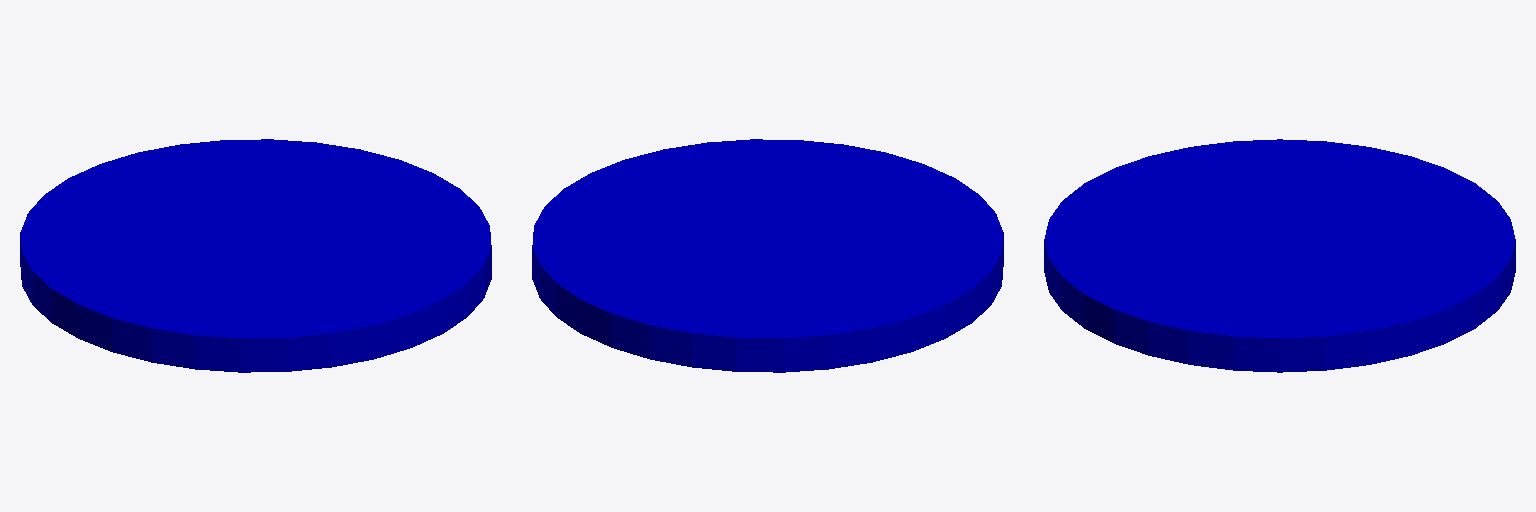
The robot description file, URDF, robot "x6":
<?xml version="1.0" ?>
<!-- =================================================================================== -->
<!-- |    This document was autogenerated by xacro from x6.urdf.xacro                  | -->
<!-- |    EDITING THIS FILE BY HAND IS NOT RECOMMENDED                                 | -->
<!-- =================================================================================== -->
<robot name="x6" xmlns:xacro="http://www.ros.org/wiki/xacro">
  <!-- Included URDF Files -->
  <link name="base">
    <inertial>
      <mass value="10"/>
      <origin rpy="0 0 0" xyz="0.0 0.0 0.0"/>
      <inertia ixx="0.001" ixy="0.0" ixz="0.0" iyy="0.001" iyz="0.0" izz="0.001"/>
    </inertial>
  </link>
  <!-- Used for fixing robot to Gazebo 'base_link' -->
  <link name="world"/>
  <joint name="fixed" type="fixed">
    <parent link="world"/>
    <child link="base"/>
  </joint>
  <link name="x6_base_link">
    <visual>
      <geometry>
        <!-- <mesh filename="package://x6_description/meshes/x6_common/x6_link_0_gnd.dae"/> -->
        <cylinder length="0.008" radius="0.05"/>
      </geometry>
      <origin rpy="0 0 0" xyz="0 0 0.004"/>
      <material name="blue">
        <color rgba="0 0 .8 1"/>
      </material>
    </visual>
    <collision>
      <geometry>
        <cylinder length="0.008" radius="0.05"/>
        <!-- <mesh filename="package://x6_description/meshes/x6_common/x6_link_0_gnd.stl"/> -->
      </geometry>
      <origin rpy="0 0 0" xyz="0 0 0.004"/>
    </collision>
    <inertial>
      <mass value="0.1"/>
      <origin rpy="0 0 0" xyz="0.0 0.0 0.0"/>
      <inertia ixx="0.001" ixy="0.0" ixz="0.0" iyy="0.001" iyz="0.0" izz="0.001"/>
    </inertial>
  </link>
  <gazebo reference="x6_base_link">
    <selfCollide>true</selfCollide>
    <material>x6_material/Grey</material>
    <!--<material>HLUGV/Green</material>-->
  </gazebo>
  <link name="x6_link1">
    <visual>
      <geometry>
        <mesh filename="package://x6_description/meshes/x6_common/x6_link_1.dae"/>
        <!--                    <box size="${j1_x} ${j1_y} ${j1_z}" />-->
      </geometry>
      <origin rpy="0 0 1.5707963268" xyz="0 0 -0.008"/>
      <material name="green">
        <color rgba="0.9 0.9 0.9 1"/>
      </material>
    </visual>
    <collision>
      <geometry>
        <mesh filename="package://x6_description/meshes/x6_common/x6_link_1.stl"/>
        <!--<box size="${j1_x} ${j1_y} ${j1_z}" />-->
      </geometry>
      <origin rpy="0 0 1.5707963268" xyz="0 0 -0.008"/>
    </collision>
    <inertial>
      <mass value="3"/>
      <origin rpy="0 0 0" xyz="0.0 0.0 0.0"/>
      <inertia ixx="0.001" ixy="0.0" ixz="0.0" iyy="0.001" iyz="0.0" izz="0.001"/>
    </inertial>
  </link>
  <gazebo reference="x6_link1">
    <selfCollide>true</selfCollide>
    <material>x6_material/White</material>
    <!--<material>Gazebo/Blue</material>-->
  </gazebo>
  <link name="x6_link2">
    <visual>
      <geometry>
        <mesh filename="package://x6_description/meshes/x6_common/x6_link_2.dae"/>
        <!--<mesh filename="package://katana_description/meshes/katana/katana_internal_controlbox.stl" />-->
      </geometry>
      <!--<origin xyz="${j2_length/2 - j2_overhang_rear/2 } 0 0" rpy="0 ${pi/2} 0"/>-->
      <origin rpy="0 1.5707963268 3.1415926536" xyz="0 0 0"/>
      <material name="red">
        <color rgba="0.6 0.6 0.6 1"/>
      </material>
    </visual>
    <collision>
      <geometry>
        <mesh filename="package://x6_description/meshes/x6_common/x6_link_2.stl"/>
        <!--<cylinder radius="0.02" length="${j2_length}" />-->
      </geometry>
      <origin rpy="0 1.5707963268 3.1415926536" xyz="0 0 0"/>
    </collision>
    <inertial>
      <mass value="0.5"/>
      <origin rpy="0 0 0" xyz="0.0 0.0 0.0"/>
      <inertia ixx="0.001" ixy="0.0" ixz="0.0" iyy="0.001" iyz="0.0" izz="0.001"/>
    </inertial>
  </link>
  <gazebo reference="x6_link2">
    <selfCollide>true</selfCollide>
    <material>x6_material/Grey</material>
    <!--<material>HLUGV/Green</material>-->
  </gazebo>
  <link name="x6_link3">
    <visual>
      <geometry>
        <mesh filename="package://x6_description/meshes/x6/x6_link_3.dae"/>
        <!--<cylinder radius="0.02" length="${j3_length}" />-->
      </geometry>
      <origin rpy="1.5707963268 0 1.5707963268" xyz="0 0 0"/>
      <material name="red">

                </material>
    </visual>
    <collision>
      <geometry>
        <mesh filename="package://x6_description/meshes/x6/x6_link_3.stl"/>
        <!--  <cylinder radius="0.02" length="${j3_length}" />-->
      </geometry>
      <origin rpy="1.5707963268 0 1.5707963268" xyz="0 0 0"/>
    </collision>
    <inertial>
      <mass value="0.1"/>
      <origin rpy="0 0 0" xyz="0.0 0.0 0.0"/>
      <inertia ixx="0.001" ixy="0.0" ixz="0.0" iyy="0.001" iyz="0.0" izz="0.001"/>
    </inertial>
  </link>
  <gazebo reference="x6_link3">
    <selfCollide>true</selfCollide>
    <material>x6_material/Grey</material>
    <!--<material>HLUGV/Green</material>-->
  </gazebo>
  <link name="x6_link4">
    <visual>
      <geometry>
        <mesh filename="package://x6_description/meshes/x6/x6_link_4.dae"/>
        <!--                    <cylinder radius="0.002" length="0.001" />-->
      </geometry>
      <origin rpy="3.1415926536 0 0" xyz="0 0 -0.1"/>
      <material name="red">

                </material>
    </visual>
    <collision>
      <geometry>
        <mesh filename="package://x6_description/meshes/x6/x6_link_4.stl"/>
        <!--<cylinder radius="0.02" length="${j4_length}" />-->
      </geometry>
      <origin rpy="3.1415926536 0 0" xyz="0 0 -0.1"/>
    </collision>
    <inertial>
      <mass value="0.01"/>
      <origin rpy="0 0 0" xyz="0.0 0.0 0.0"/>
      <inertia ixx="0.001" ixy="0.0" ixz="0.0" iyy="0.001" iyz="0.0" izz="0.001"/>
    </inertial>
  </link>
  <gazebo reference="x6_link5">
    <selfCollide>true</selfCollide>
    <material>x6_material/Grey</material>
    <!--<material>HLUGV/Green</material>-->
  </gazebo>
  <link name="x6_link5">
    <visual>
      <geometry>
        <mesh filename="package://x6_description/meshes/x6_common/x6_link_4_0120.dae"/>
        <!--  <cylinder radius="0.02" length="${j4_length}" />-->
      </geometry>
      <origin rpy="-1.5707963268 0 0" xyz="0 0 0"/>
      <material name="red">

                </material>
    </visual>
    <collision>
      <geometry>
        <mesh filename="package://x6_description/meshes/x6_common/x6_link_4_0120.stl"/>
        <!--<cylinder radius="0.02" length="${j4_length}" />-->
      </geometry>
      <origin rpy="-1.5707963268 0 0" xyz="0 0 0"/>
    </collision>
    <inertial>
      <mass value="0.01"/>
      <origin rpy="0 0 0" xyz="0.0 0.0 0.0"/>
      <inertia ixx="0.001" ixy="0.0" ixz="0.0" iyy="0.001" iyz="0.0" izz="0.001"/>
    </inertial>
  </link>
  <gazebo reference="x6_link5">
    <selfCollide>true</selfCollide>
    <material>x6_material/Grey</material>
    <!--<material>HLUGV/Green</material>-->
  </gazebo>
  <link name="x6_link6">
    <visual>
      <geometry>
        <mesh filename="package://x6_description/meshes/x6/x6_link_6.dae"/>
        <!--<cylinder radius="0.002" length="0.001" />-->
      </geometry>
      <origin rpy="0 0 0" xyz="0 0 -0.036"/>
      <material name="red">

      </material>
    </visual>
    <collision>
      <geometry>
        <mesh filename="package://x6_description/meshes/x6/x6_link_6.stl"/>
        <!--<cylinder radius="0.002" length="0.001" />-->
      </geometry>
      <origin rpy="0 0 0" xyz="0 0 -0.036"/>
    </collision>
    <inertial>
      <mass value="0.01"/>
      <origin rpy="0 0 0" xyz="0.0 0.0 0.0"/>
      <inertia ixx="0.001" ixy="0.0" ixz="0.0" iyy="0.001" iyz="0.0" izz="0.001"/>
    </inertial>
  </link>
  <gazebo reference="x6_link6">
    <selfCollide>true</selfCollide>
    <material>x6_material/Grey</material>
    <!--<material>HLUGV/Green</material>-->
  </gazebo>
  <link name="x6_toolframe">
    <visual>
      <geometry>
        <mesh filename="package://x6_description/meshes/x6_common/x6_rot_racket.dae"/>
        <!-- <cylinder radius="0.08" length="0.01" /> -->
      </geometry>
      <origin rpy="0 -1.5707963268 3.1415926536" xyz="-0.0015 0 0.01"/>
      <!-- <origin xyz="-0.0215 0 0.01" rpy="0 0 0"/> -->
      <material name="blue">
        <color rgba="0 0 .8 1"/>
      </material>
    </visual>
    <collision>
      <geometry>
        <!-- <mesh filename="package://x6_description/meshes/x6_common/x6_rot_racket.stl"/> -->
        <cylinder length="0.01" radius="0.08"/>
      </geometry>
      <!--<origin xyz="-0.0015 0 0.01" rpy="0 -${pi/2} ${pi}"/> -->
      <origin rpy="0 0 0" xyz="-0.0215 0 0.01"/>
      <surface>
        <contact>
          <ode>
            <kp>1e+08</kp>
            <kd>10000</kd>
          </ode>
        </contact>
        <friction>
          <ode>
            <mu>0</mu>
            <mu2>0</mu2>
          </ode>
        </friction>
      </surface>
    </collision>
    <inertial>
      <mass value="0.01"/>
      <origin rpy="0 0 0" xyz="0.0 0.0 0.0"/>
      <inertia ixx="0.001" ixy="0.0" ixz="0.0" iyy="0.001" iyz="0.0" izz="0.001"/>
    </inertial>
  </link>
  <gazebo reference="x6_toolframe">
    <selfCollide>true</selfCollide>
    <material>Gazebo/Grey</material>
  </gazebo>
  <joint name="x6_base_joint" type="fixed">
    <origin rpy="0 0 0" xyz="0 0 0"/>
    <parent link="base"/>
    <child link="x6_base_link"/>
  </joint>
  <joint name="joint1" type="revolute">
    <parent link="x6_base_link"/>
    <child link="x6_link1"/>
    <axis xyz="0 0 1"/>
    <origin xyz="0 0 0.008"/>
    <limit effort="50.0" lower="-2.53" upper="2.53" velocity="2.617"/>
    <!-- TODO: give correct effort limits -->
    <dynamics damping="1.0" friction="1.0"/>
  </joint>
  <joint name="joint2" type="revolute">
    <parent link="x6_link1"/>
    <child link="x6_link2"/>
    <axis xyz="0 0 1"/>
    <origin rpy="1.5707963268 0 0" xyz="0 0 0.276"/>
    <limit effort="50.0" lower="-2.181" upper="2.0071" velocity="2.617"/>
    <dynamics damping="1.0" friction="1.0"/>
  </joint>
  <joint name="joint3" type="revolute">
    <parent link="x6_link2"/>
    <child link="x6_link3"/>
    <axis xyz="0 0 1 "/>
    <origin rpy="0 0 1.5707963268" xyz="0 0.307 0"/>
    <limit effort="30.0" lower="-2.007" upper="2.007" velocity="2.617"/>
    <dynamics damping="1.0" friction="1.0"/>
  </joint>
  <joint name="joint4" type="revolute">
    <parent link="x6_link3"/>
    <child link="x6_link4"/>
    <axis xyz="0 0 1"/>
    <origin rpy="1.5707963268 0 -1.5707963268" xyz="0 0 0.0"/>
    <limit effort="30.0" lower="-1.83" upper="1.83" velocity="2.617"/>
    <!-- TODO: give correct effort limits -->
    <dynamics damping="1.0" friction="1.0"/>
  </joint>
  <joint name="joint5" type="revolute">
    <!--<joint name="joint5" type="fixed">-->
    <parent link="x6_link4"/>
    <child link="x6_link5"/>
    <axis xyz="0 0 1"/>
    <origin rpy="-1.5707963268 0 0" xyz="0 0 -0.311"/>
    <!--<origin xyz="0 0 ${-j3_length - j4_length}" rpy="${-pi/2} ${pi/2} 0"/>-->
    <limit effort="30.0" lower="-1.6" upper="1.6" velocity="2.617"/>
    <!-- <limit effort="0.1" lower="0.01" upper="0.01" velocity="0.1"/> -->
    <!--<dynamics damping="1.0" friction="1.0"/>-->
  </joint>
  <joint name="joint6" type="revolute">
    <parent link="x6_link5"/>
    <child link="x6_link6"/>
    <axis xyz="0 0 1"/>
    <origin rpy="-1.5707963268 0 0" xyz="0 0.126 0.018"/>
    <limit effort="10.0" lower="-1.6" upper="1.6" velocity="2.617"/>
    <!-- TODO: give correct effort limits -->
    <dynamics damping="1.0" friction="1.0"/>
  </joint>
  <joint name="tool_frame" type="fixed">
    <parent link="x6_link6"/>
    <child link="x6_toolframe"/>
    <axis xyz="0 0 1"/>
    <!-- <origin xyz="0 ${j6_length} 0" rpy="0 0 ${pi/2}"/> -->
    <origin rpy="3.1415926536 -1.5707963268 4.7123889804" xyz="0 0.012 0.11"/>
  </joint>
  <transmission name="joint1_trans">
    <type>transmission_interface/SimpleTransmission</type>
    <joint name="joint1">
      <hardwareInterface>EffortJointInterface</hardwareInterface>
    </joint>
    <actuator name="joint1_motor">
      <hardwareInterface>EffortJointInterface</hardwareInterface>
      <mechanicalReduction>1</mechanicalReduction>
    </actuator>
  </transmission>
  <transmission name="joint2_trans">
    <type>transmission_interface/SimpleTransmission</type>
    <joint name="joint2">
      <hardwareInterface>EffortJointInterface</hardwareInterface>
    </joint>
    <actuator name="joint2_motor">
      <hardwareInterface>EffortJointInterface</hardwareInterface>
      <mechanicalReduction>1</mechanicalReduction>
    </actuator>
  </transmission>
  <transmission name="joint3_trans">
    <type>transmission_interface/SimpleTransmission</type>
    <joint name="joint3">
      <hardwareInterface>EffortJointInterface</hardwareInterface>
    </joint>
    <actuator name="joint3_motor">
      <hardwareInterface>EffortJointInterface</hardwareInterface>
      <mechanicalReduction>1</mechanicalReduction>
    </actuator>
  </transmission>
  <transmission name="joint4_trans">
    <type>transmission_interface/SimpleTransmission</type>
    <joint name="joint4">
      <hardwareInterface>EffortJointInterface</hardwareInterface>
    </joint>
    <actuator name="joint4_motor">
      <hardwareInterface>EffortJointInterface</hardwareInterface>
      <mechanicalReduction>1</mechanicalReduction>
    </actuator>
  </transmission>
  <transmission name="joint5_trans">
    <type>transmission_interface/SimpleTransmission</type>
    <joint name="joint5">
      <hardwareInterface>EffortJointInterface</hardwareInterface>
    </joint>
    <actuator name="joint5_motor">
      <hardwareInterface>EffortJointInterface</hardwareInterface>
      <mechanicalReduction>1</mechanicalReduction>
    </actuator>
  </transmission>
  <transmission name="joint6_trans">
    <type>transmission_interface/SimpleTransmission</type>
    <joint name="joint6">
      <hardwareInterface>EffortJointInterface</hardwareInterface>
    </joint>
    <actuator name="joint6_motor">
      <hardwareInterface>EffortJointInterface</hardwareInterface>
      <mechanicalReduction>1</mechanicalReduction>
    </actuator>
  </transmission>
  <gazebo>
    <plugin filename="libgazebo_ros_control.so" name="gazebo_ros_control">
      <robotNamespace>/x6</robotNamespace>
    </plugin>
  </gazebo>
</robot>

--- What the picture shows (computed from the rendered views, not written in the file) ---
3 views of the same robot in one strip: view 1: azimuth 30°, elevation 25°; view 2: azimuth 150°, elevation 25°; view 3: azimuth 270°, elevation 25° (orthographic).
Model x6 with 10 links and 9 joints (6 revolute, 3 fixed), rooted at world, posed all joints at 0.
Visible links, largest first — view 1: x6_base_link; view 2: x6_base_link; view 3: x6_base_link.
Boxes of the visible links, bbox=[...] form: x6_base_link: bbox=[20, 139, 491, 372]; x6_base_link: bbox=[532, 139, 1003, 372]; x6_base_link: bbox=[1044, 139, 1515, 372].
Bounding box of the posed robot: 0.1 × 0.1 × 0.008 m (x, y, z).
Meshes: 7 distinct files referenced, 0 mesh visuals loaded (none loaded); not drawn: 7 (reference not matched to a file when rendering).